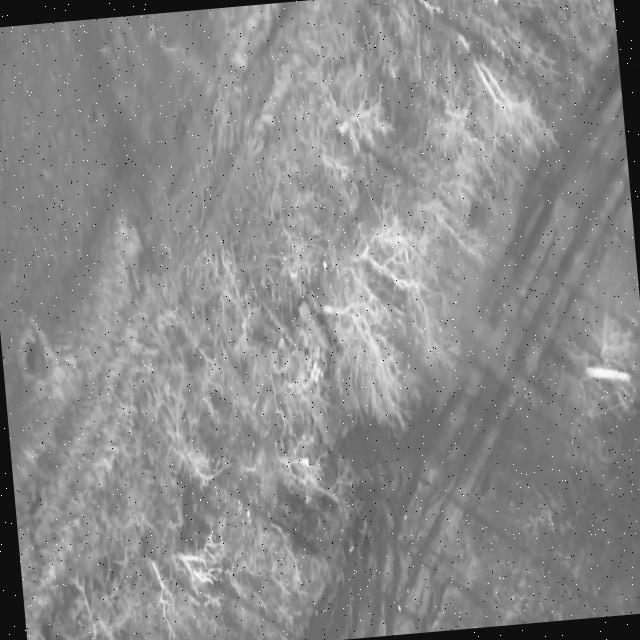MBT: (248, 273, 367, 443)
